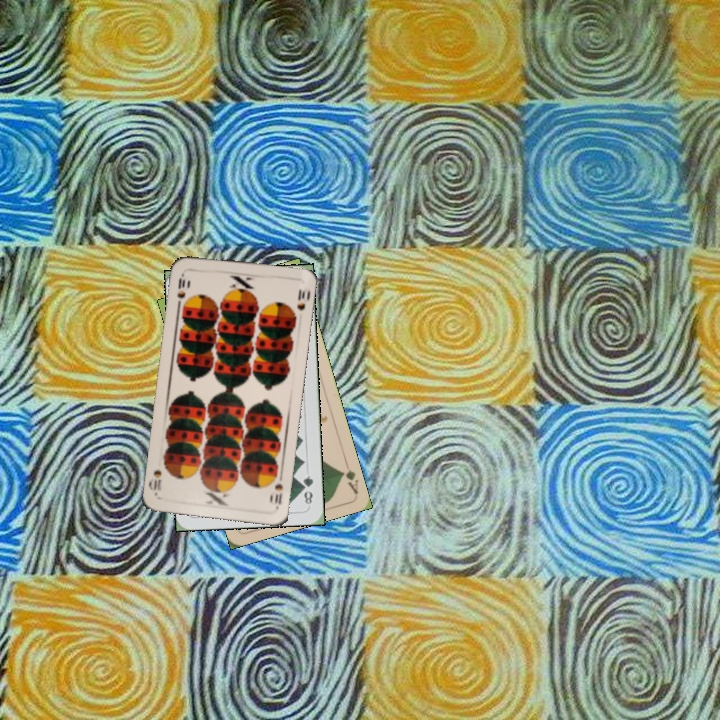G8: (298, 471, 316, 507)
GA: (337, 456, 361, 496)
S10: (268, 470, 285, 511), (173, 269, 188, 301)
